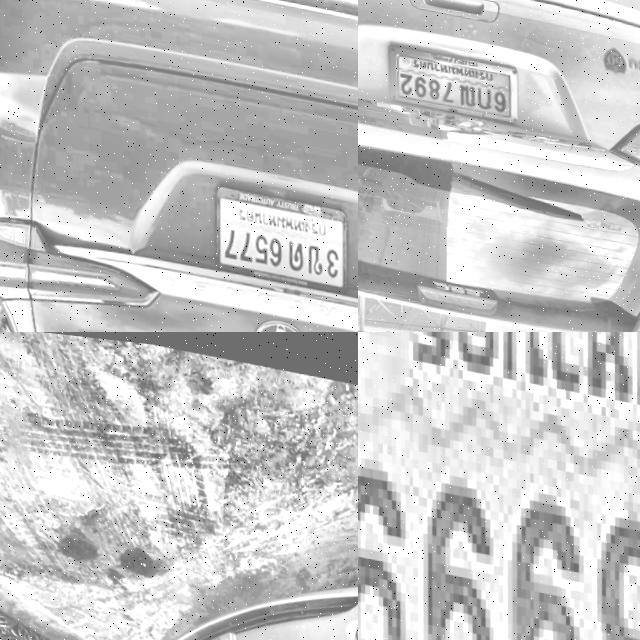license-plate: (358, 332, 640, 640), (203, 174, 347, 284), (374, 31, 521, 123), (151, 609, 233, 640)
